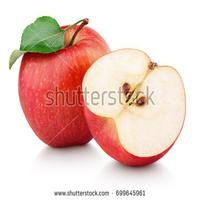apple: (81, 40, 193, 172), (15, 16, 116, 153)
